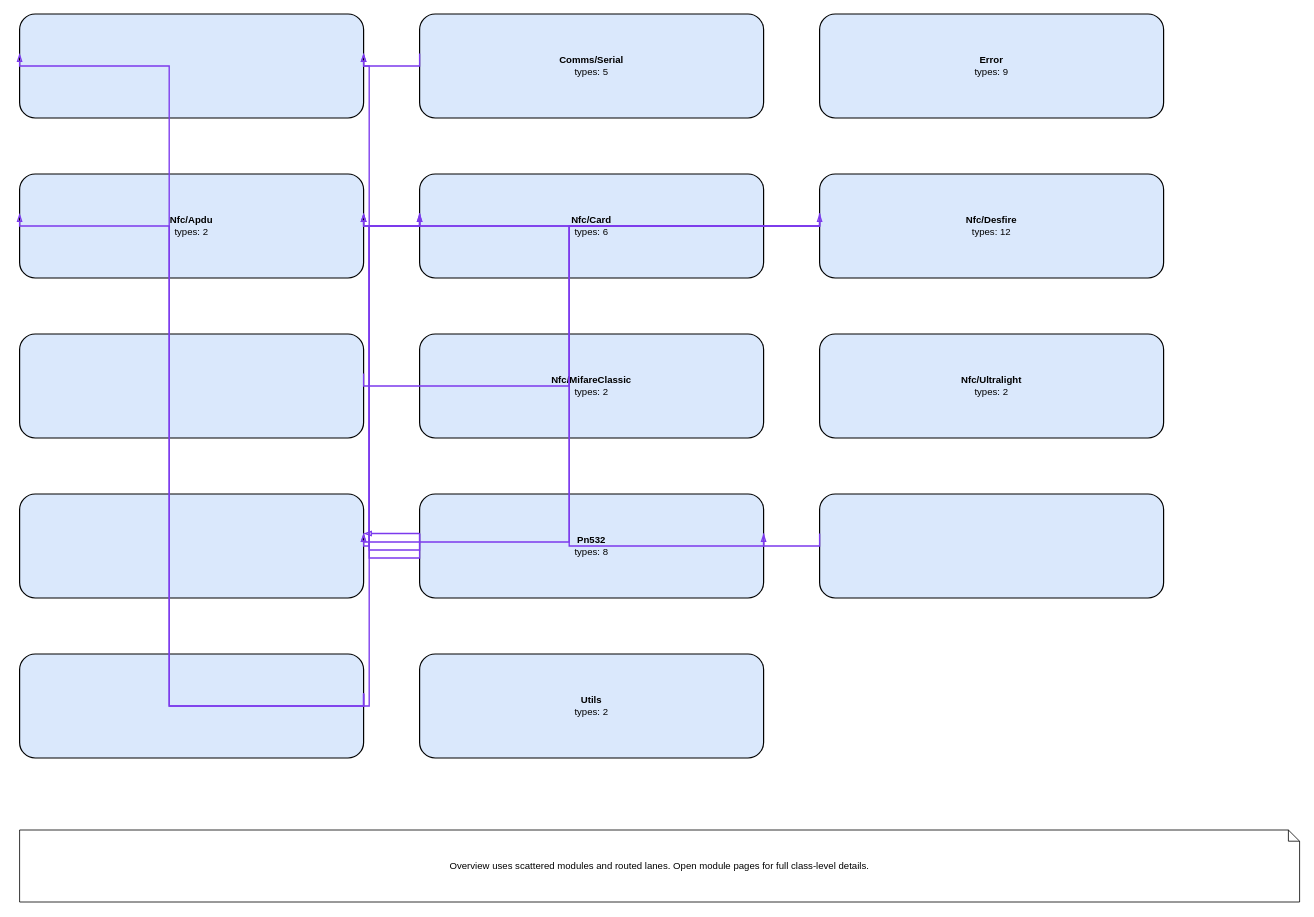
Image size: 1314x917. Some labels were removed from this diagram. The centre of each missing label's shape, as x and y in pixels:
"Comms types: 2" goes at point 191,65.
"Nfc/Desfire/Commands types: 7" goes at point 191,385.
"Nfc/Wire types: 4" goes at point 191,545.
"Pn532/Commands types: 22" goes at point 991,545.
"Rc522 types: 2" goes at point 191,705.
